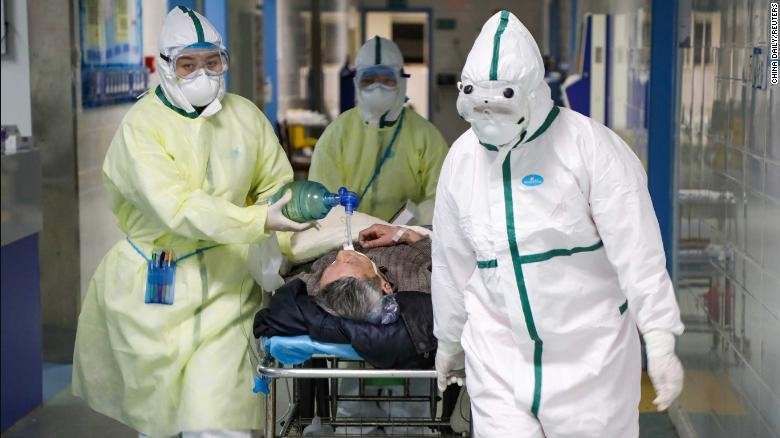Coverall: (428, 8, 690, 438), (69, 84, 297, 430), (301, 104, 457, 261)
Gloves: (641, 330, 685, 417), (263, 188, 312, 236), (432, 339, 470, 399)
Goggles: (454, 87, 527, 128), (158, 46, 232, 81), (354, 63, 402, 94)
with_mask: (455, 83, 528, 148), (358, 76, 406, 123), (178, 56, 221, 108)
